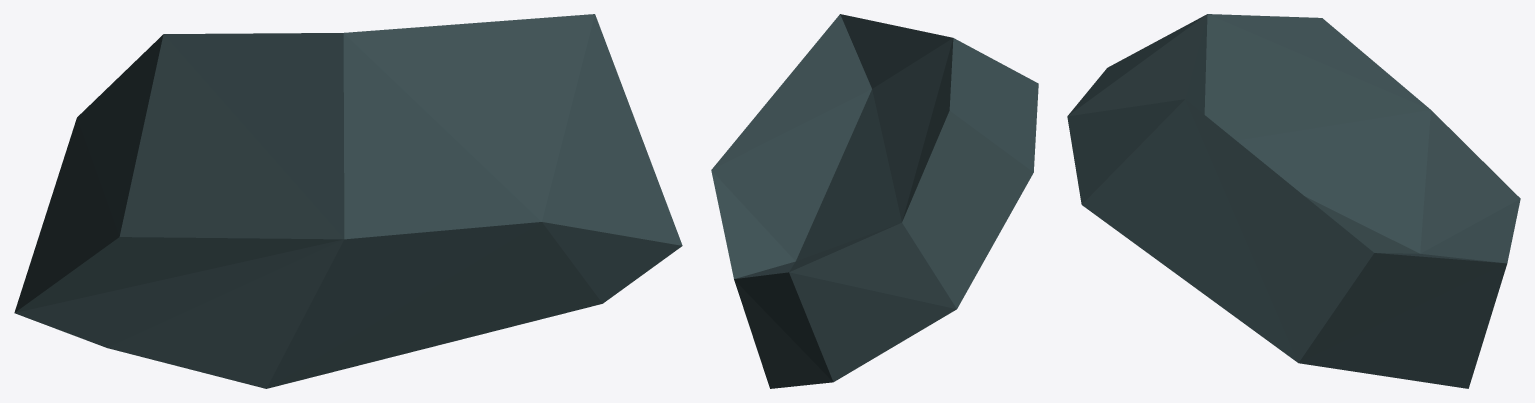
Rendered from ant-scape-bed-left.dae.
3 views of the same model, side by side, from view 1: azimuth 30°, elevation 25°; view 2: azimuth 150°, elevation 25°; view 3: azimuth 270°, elevation 25° (orthographic). The views are drawn at different scales.
Visible parts, largest first — view 1: ant-scape-bed-left; view 2: ant-scape-bed-left; view 3: ant-scape-bed-left.
Boxes of the visible parts, x1,y1,x2,y2 form: ant-scape-bed-left: (14, 14, 682, 388); ant-scape-bed-left: (711, 14, 1038, 388); ant-scape-bed-left: (1067, 14, 1520, 388).
Size of the model in its own units: 0.397 by 0.4868 by 0.3961.
